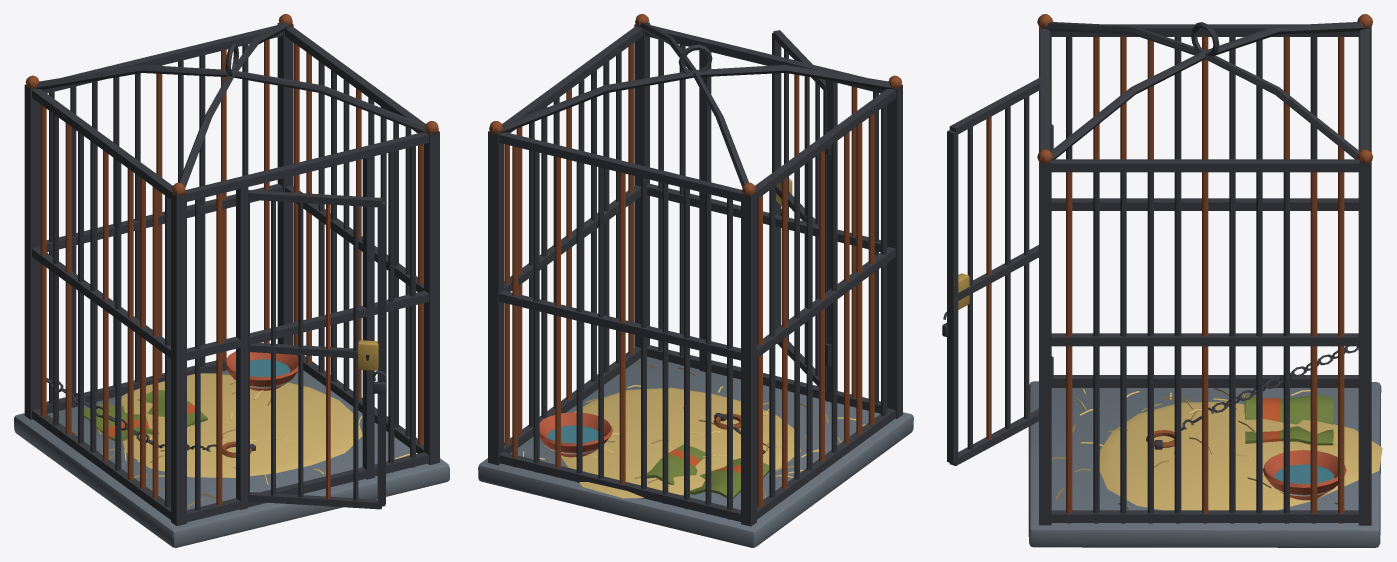
File: deco_lockup_cage.fbx
The picture shows the model from 3 angles, left to right: view 1: azimuth 30°, elevation 25°; view 2: azimuth 150°, elevation 25°; view 3: azimuth 270°, elevation 25°; orthographic projection. The views are drawn at different scales.
Parts seen in each view (by area): view 1: LockupCage_Cage, LockupCage_Straw, LockupCage_Door, LockupCage_Shackle; view 2: LockupCage_Cage, LockupCage_Straw, LockupCage_Door; view 3: LockupCage_Cage, LockupCage_Straw, LockupCage_Door, LockupCage_Shackle.
Boxes of the visible parts, x1=… form: LockupCage_Cage: x1=14, y1=14, x2=449, y2=547; LockupCage_Straw: x1=72, y1=351, x2=417, y2=507; LockupCage_Door: x1=248, y1=190, x2=386, y2=509; LockupCage_Shackle: x1=39, y1=376, x2=255, y2=457; LockupCage_Cage: x1=478, y1=14, x2=913, y2=547; LockupCage_Straw: x1=523, y1=361, x2=865, y2=498; LockupCage_Door: x1=772, y1=30, x2=831, y2=391; LockupCage_Cage: x1=1028, y1=14, x2=1381, y2=547; LockupCage_Straw: x1=1051, y1=387, x2=1382, y2=510; LockupCage_Door: x1=942, y1=77, x2=1053, y2=465; LockupCage_Shackle: x1=1146, y1=346, x2=1358, y2=449.
Bounding box in the file's own units: 220 × 312 × 275.
